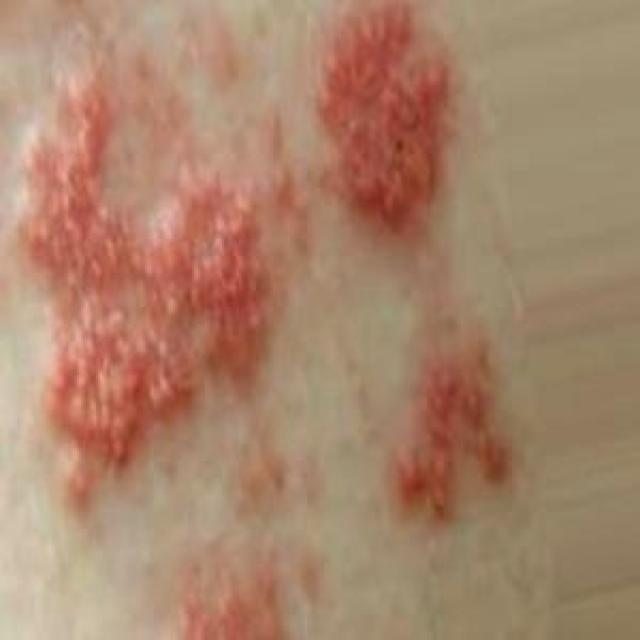Shingles: (27, 74, 260, 506), (320, 0, 448, 230), (394, 335, 514, 524), (167, 543, 293, 638)
